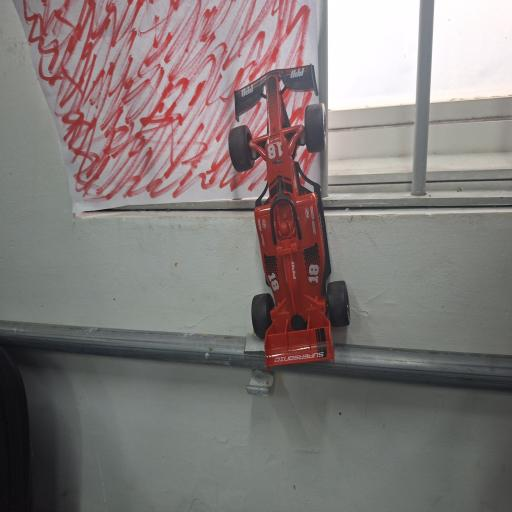carro: (229, 65, 349, 368)
